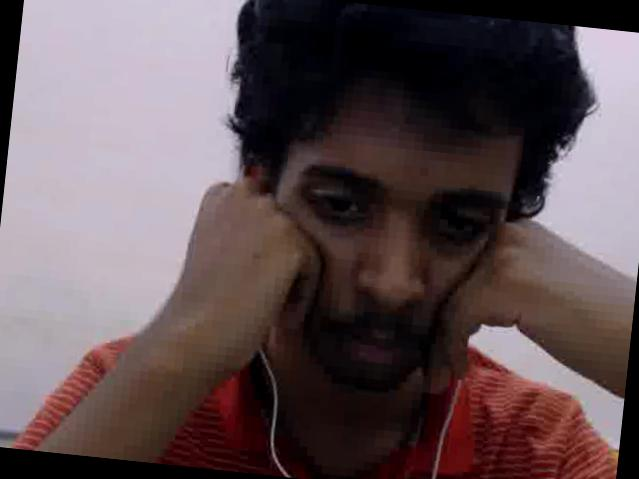bosan: (247, 77, 535, 424)
